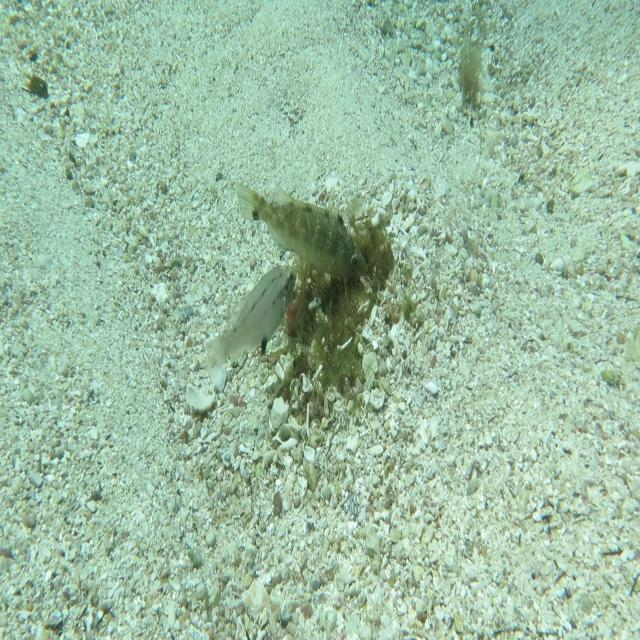INSF: (235, 178, 369, 278)
female: (205, 266, 297, 382)
nest: (279, 200, 416, 438)
